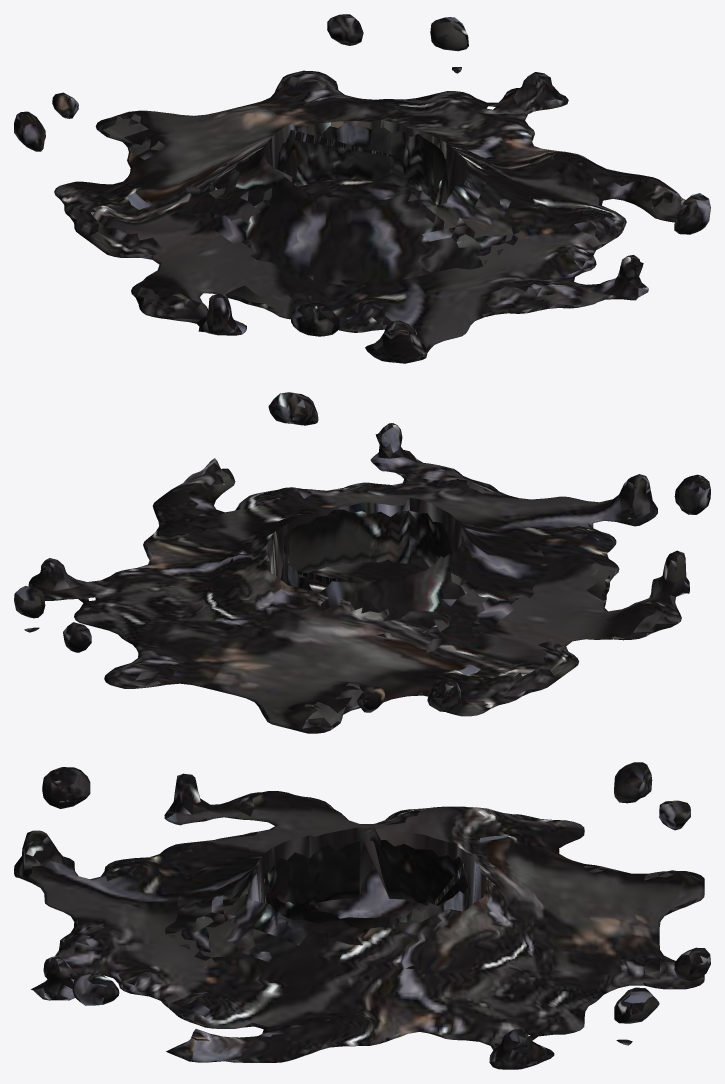
The model's file is Oil.obj.
3 views of the same model, one above another, from view 1: azimuth 30°, elevation 25°; view 2: azimuth 150°, elevation 25°; view 3: azimuth 270°, elevation 25° (orthographic). The views are drawn at different scales.
Visible parts, largest first — view 1: Fluid_Domain.002_Cube.002; view 2: Fluid_Domain.002_Cube.002; view 3: Fluid_Domain.002_Cube.002.
Boxes of the visible parts, box(x1,y1,x2,y2) form: Fluid_Domain.002_Cube.002: box(14, 14, 710, 363); Fluid_Domain.002_Cube.002: box(14, 392, 710, 733); Fluid_Domain.002_Cube.002: box(14, 762, 710, 1069).
Bounding box in the file's own units: 59.16 × 8.3 × 62.67.
